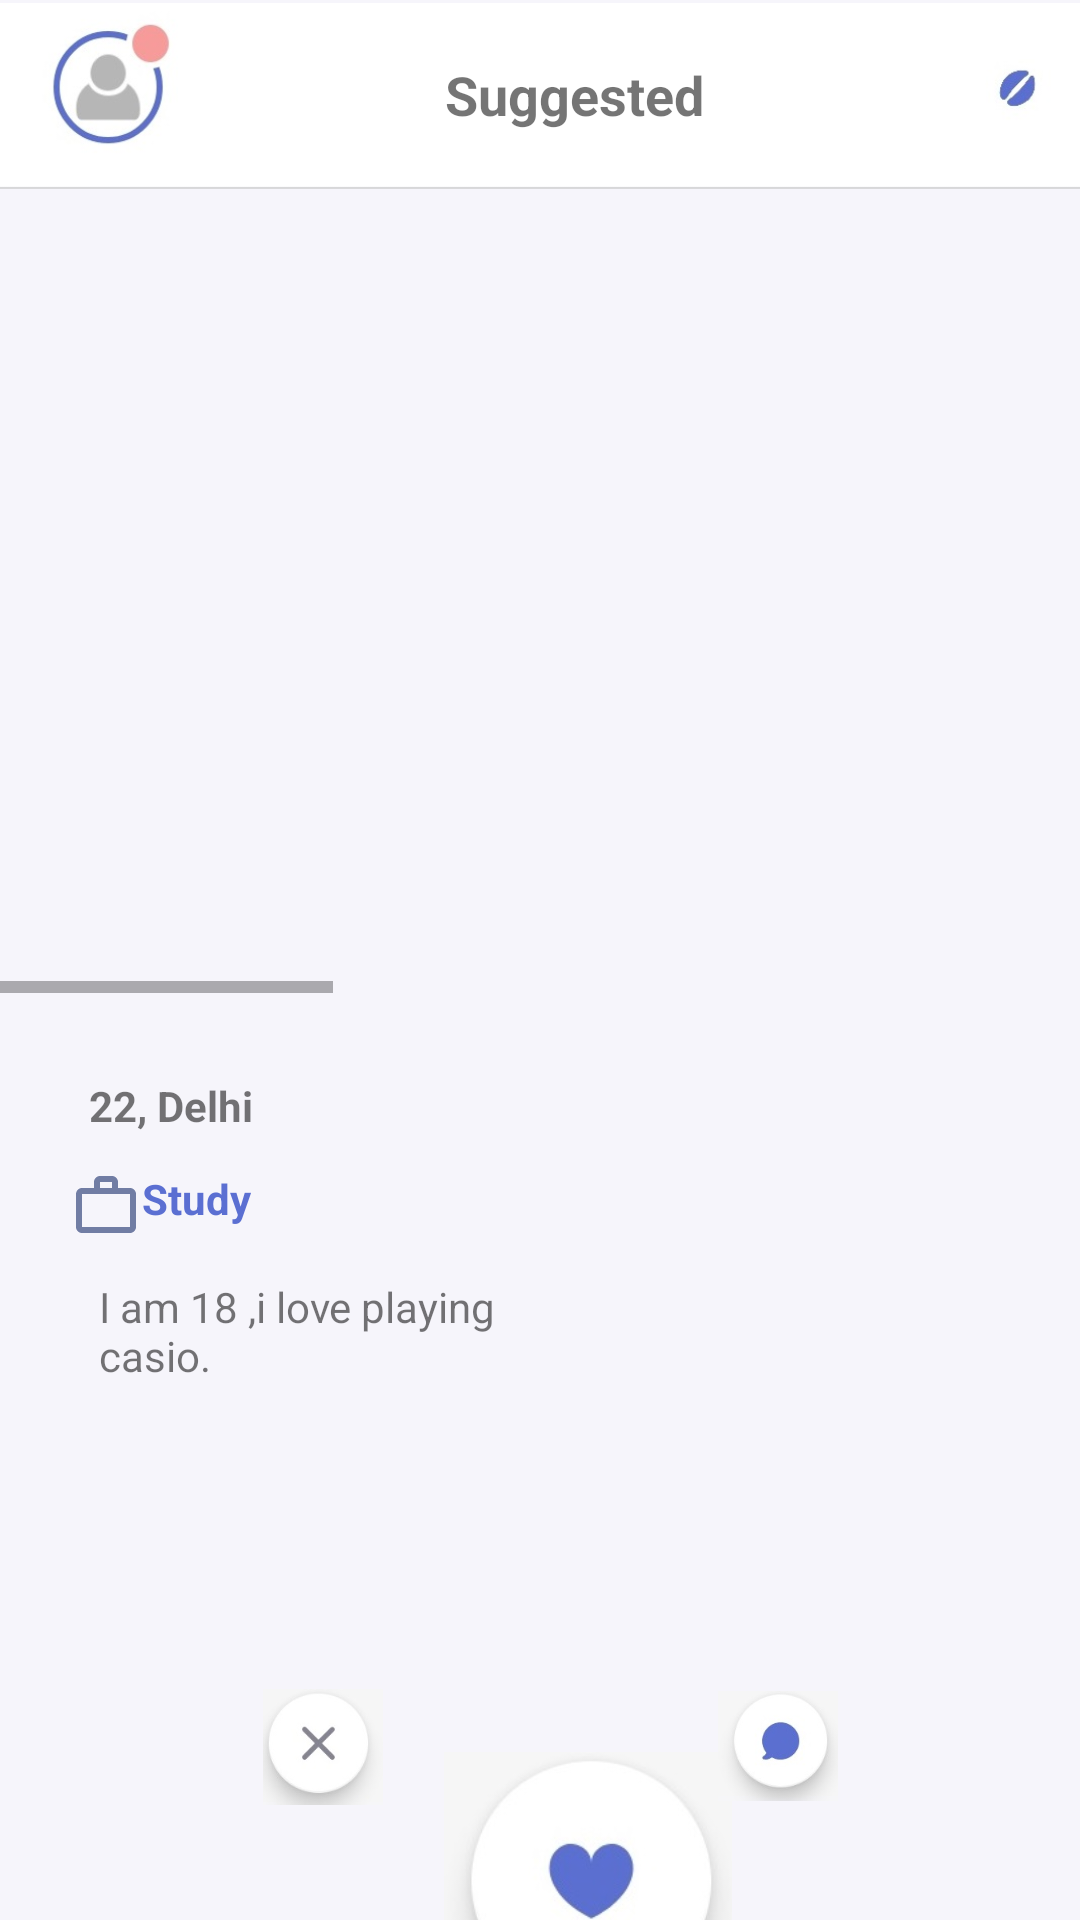

Where to tap for icons on this 1080w x 1920h app screen, as (x=x, y=y):
cancel: (x=320, y=1747)
message: (x=782, y=1746)
